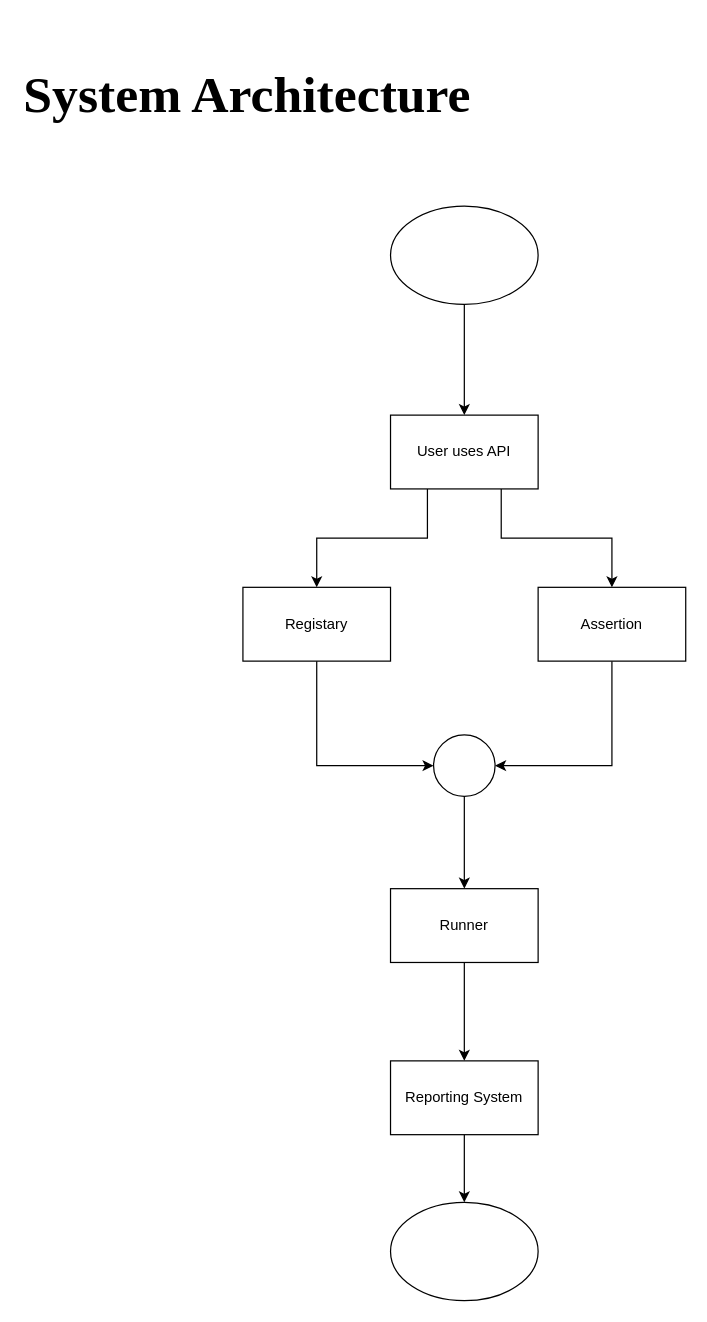
Image size: 707x1322. Some labels were removed from this diagram. The shapes that lost their labels are listed below. From the top down, each one's centre as x and y in pixels, then its label:
At pixel 463 254: "Start".
At pixel 463 1251: "End".
